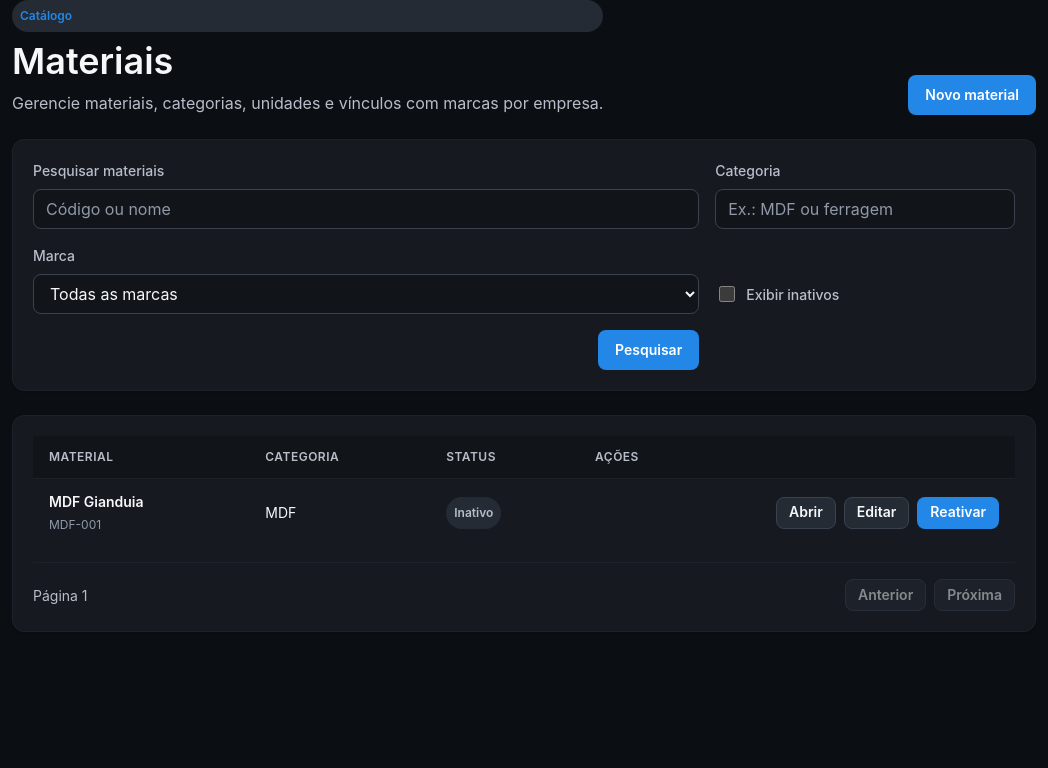
Test: MaterialsRoute › reativa um material inativo
The width and height of the screenshot is (1048, 768).
Expected: the button "MDF Gianduia" is shown, [49, 491, 144, 512]
Click the button "Reativar". click: point(958, 513)
box: [917, 497, 999, 529]
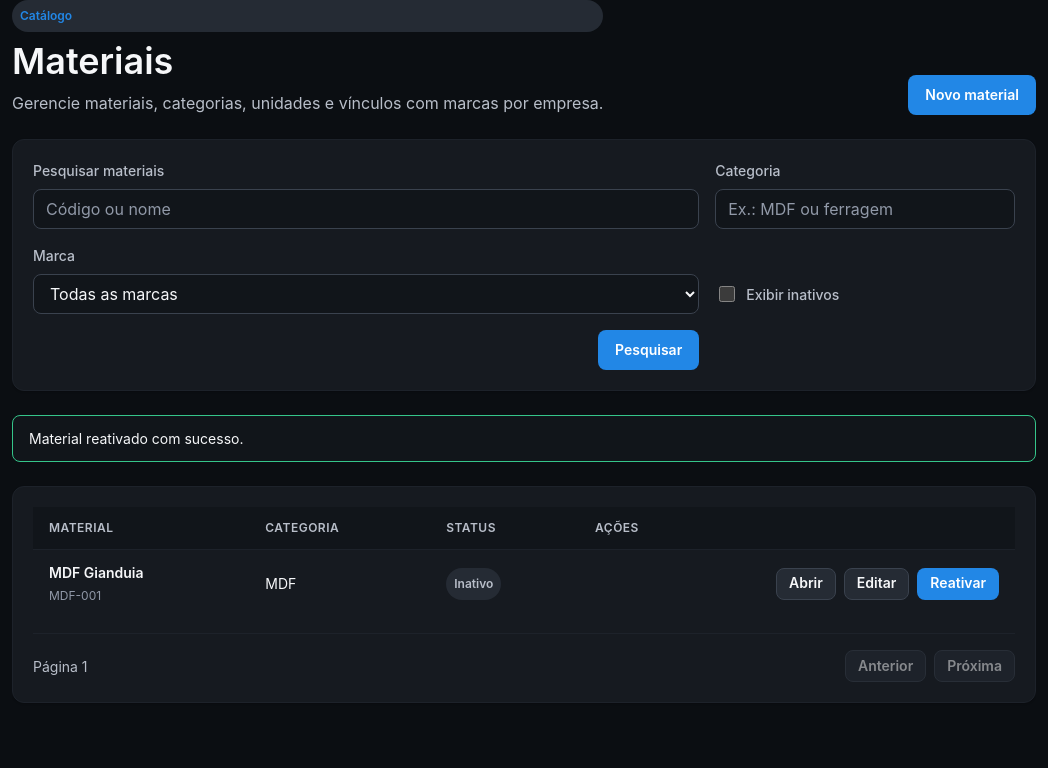
Expected: the text "Material reativado com sucesso." is shown, [12, 415, 1036, 462]
